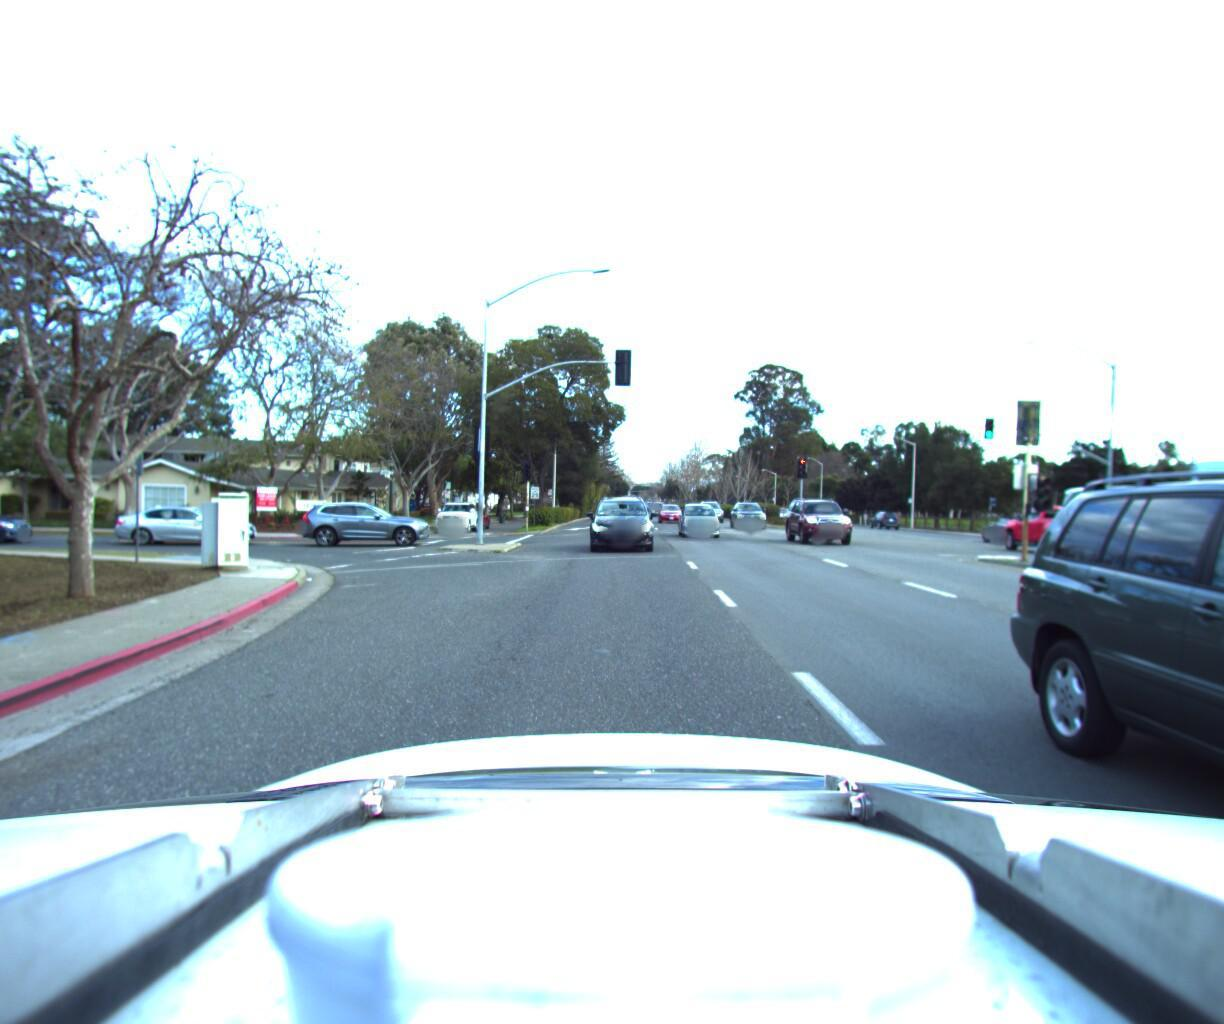car: (1110, 218, 1224, 1024), (1040, 502, 1224, 578), (106, 498, 266, 545), (300, 495, 435, 544), (982, 498, 1100, 552), (786, 485, 871, 544), (586, 487, 654, 549), (0, 496, 44, 543), (671, 494, 723, 533), (432, 494, 480, 528), (730, 497, 771, 527), (656, 493, 684, 519), (863, 504, 898, 524)
